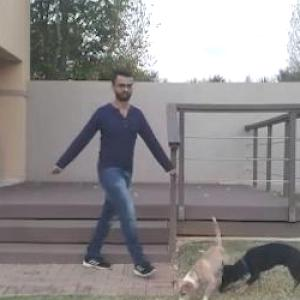land: (48, 74, 178, 287)
